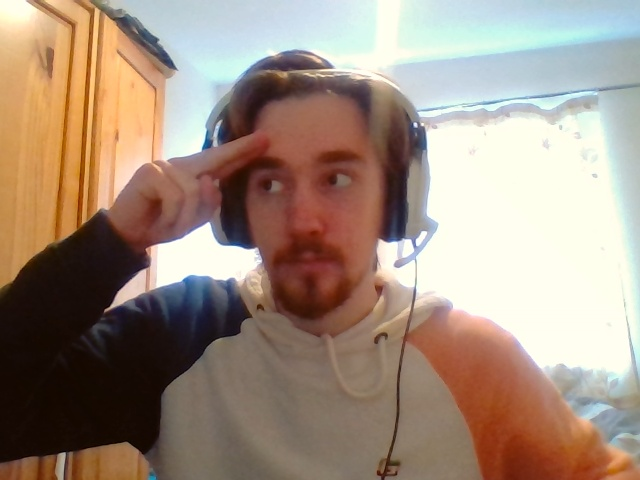name: (135, 131, 271, 226)
